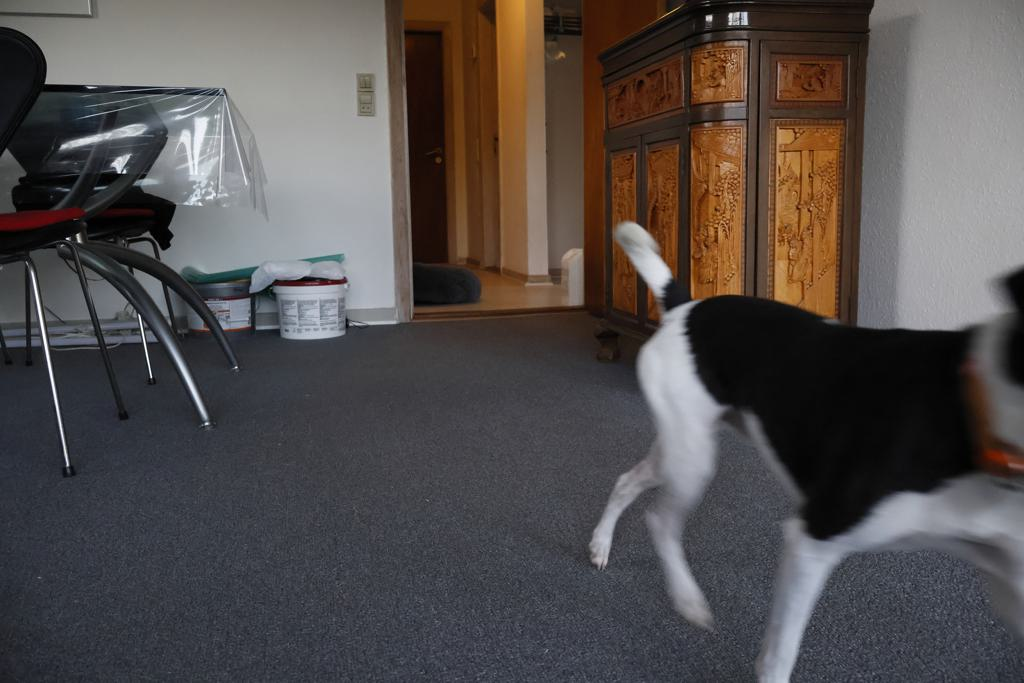Dog: (571, 209, 1024, 683)
